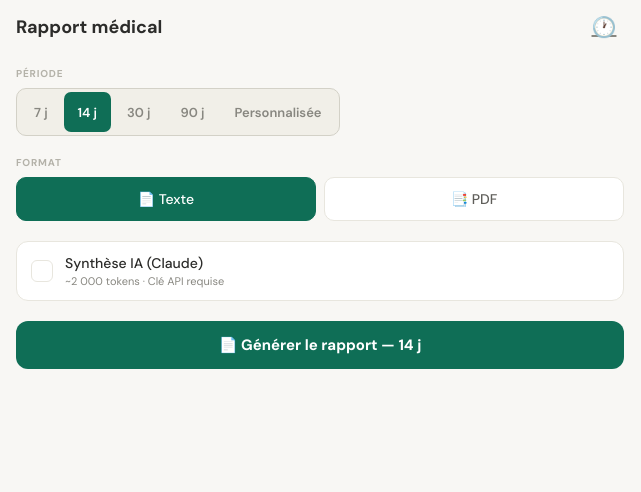
ReportBuilderComponent › période personnalisée › affiche les inputs de date sur clic "Personnalisée"
The width and height of the screenshot is (641, 492).
Click the button with test id "window-custom" at [278, 112], box x1=220 y1=92 x2=336 y2=132
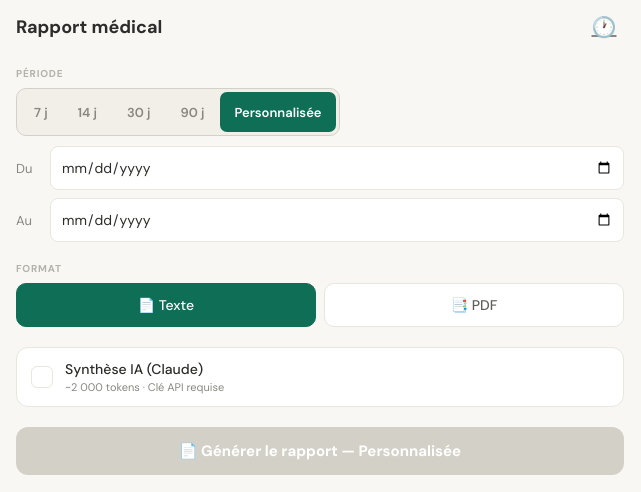
Check: the element with test id "custom-range-inputs" is shown, box x1=16 y1=146 x2=624 y2=242
Check: the date field with test id "custom-start-date" is shown, box x1=50 y1=146 x2=624 y2=190
Check: the date field with test id "custom-end-date" is shown, box x1=50 y1=198 x2=624 y2=242
